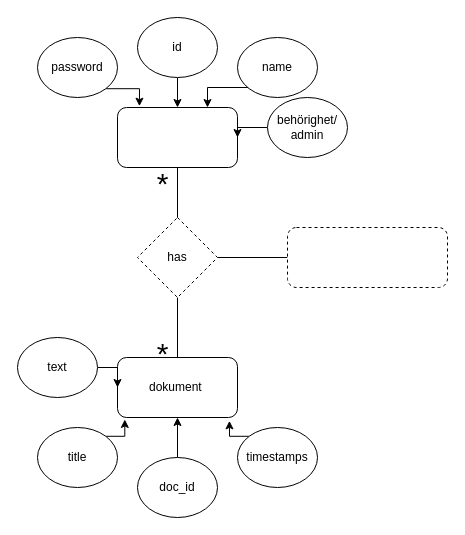
Some shapes in this 465 by 535 pixel diagram are drawn without their labels. Each missing label, with the centre of its shape:
"user" belongs at (x=177, y=137).
"user_dokument_relationship" belongs at (x=367, y=257).
